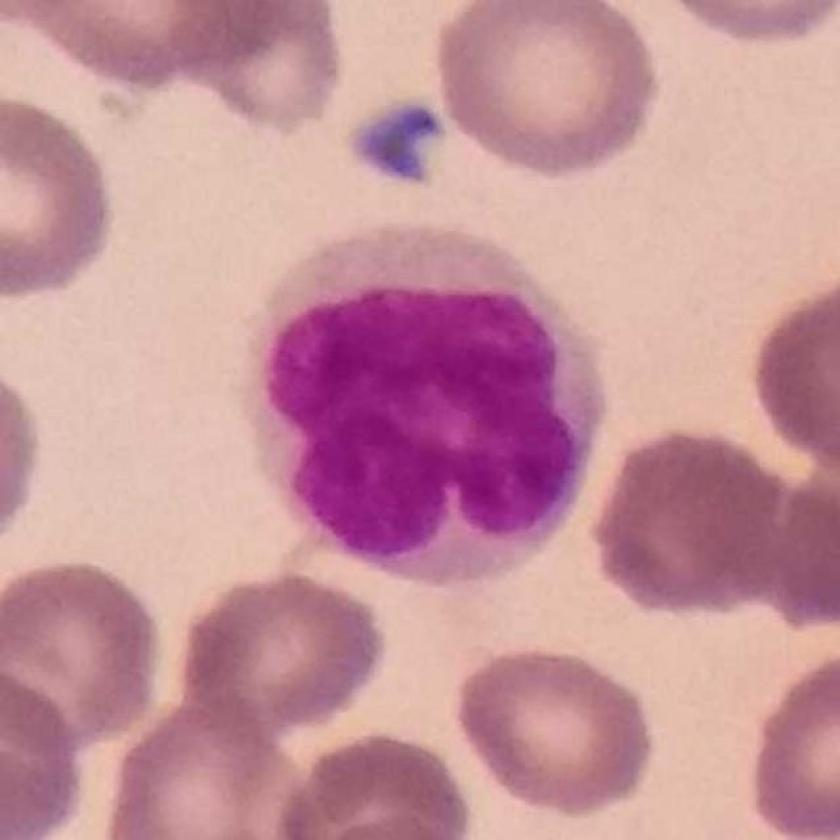monocyte: (236, 216, 618, 593)
